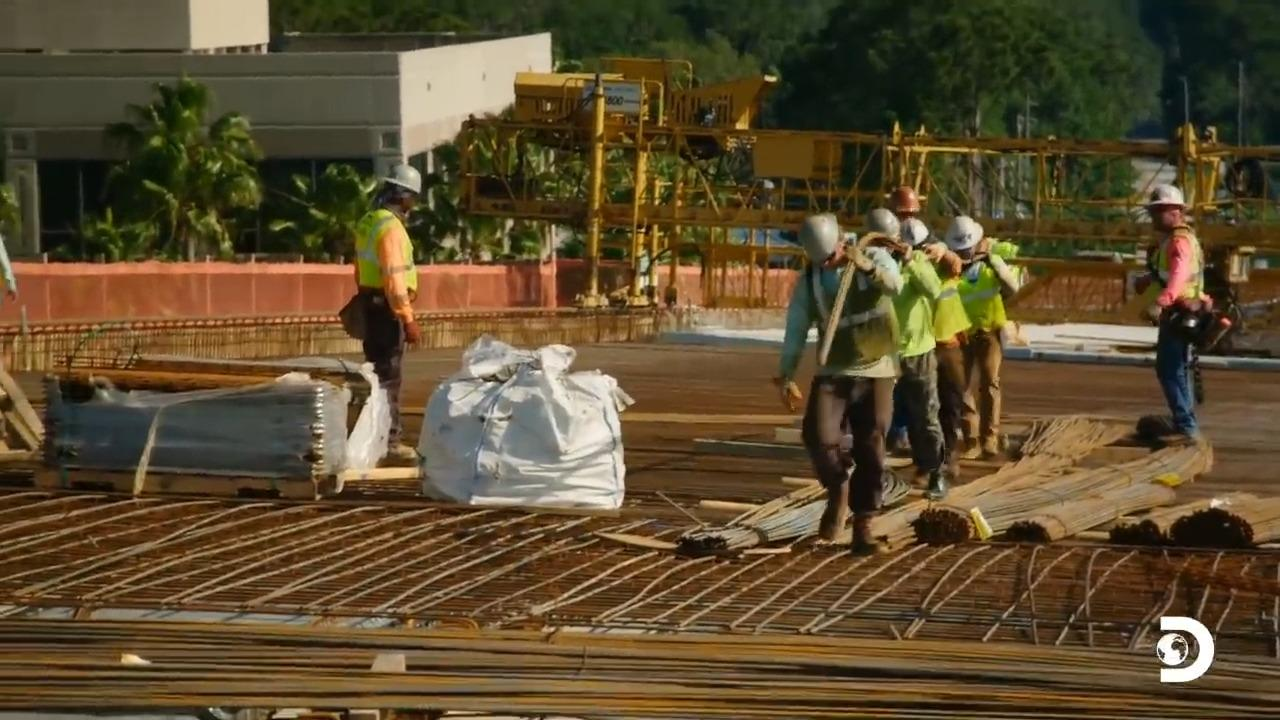Gloves: (778, 376, 800, 412), (400, 321, 422, 343)
Helmet: (797, 214, 839, 266), (943, 215, 983, 251), (382, 163, 422, 194), (1144, 184, 1186, 209), (889, 185, 920, 213)
Person: (772, 212, 904, 556), (351, 162, 423, 462), (1133, 184, 1211, 445)
Safety Boot: (823, 492, 848, 542), (855, 524, 887, 560), (380, 443, 415, 460), (924, 473, 948, 497)
Safety Vest: (817, 272, 888, 365), (349, 217, 411, 290), (890, 265, 927, 347), (1158, 245, 1204, 307), (962, 274, 1000, 332), (935, 271, 955, 336)
